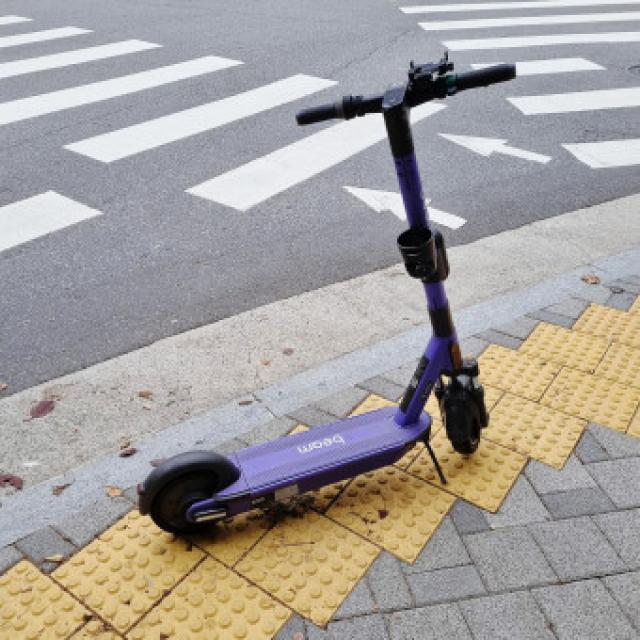curb: (0, 325, 429, 546), (540, 228, 640, 284), (459, 282, 555, 336)
kick-board: (139, 56, 513, 534)
lane: (0, 298, 640, 640), (69, 74, 330, 162), (189, 121, 385, 211), (0, 56, 241, 124), (1, 190, 101, 252), (3, 39, 160, 78), (419, 11, 640, 31), (400, 1, 640, 14), (519, 89, 640, 113), (562, 139, 640, 168), (446, 36, 555, 51), (519, 59, 600, 74), (354, 192, 396, 211), (459, 140, 500, 156), (560, 36, 640, 44), (356, 395, 389, 412)
road: (0, 0, 640, 394)
sidewalk: (275, 425, 640, 639)
verge: (0, 264, 424, 483), (449, 196, 640, 309)
